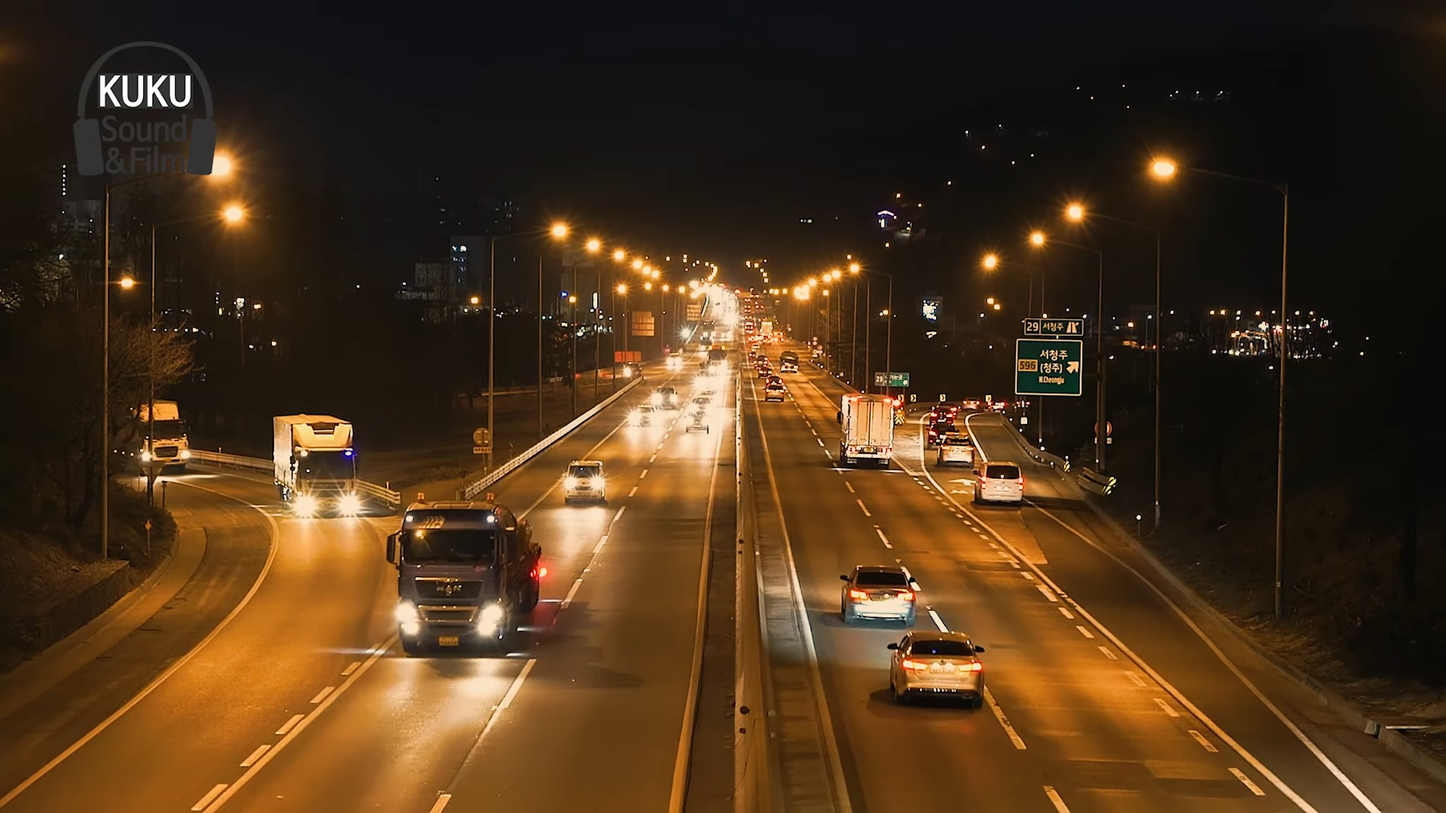car: (890, 625, 993, 706), (841, 561, 919, 624), (556, 456, 612, 502), (973, 457, 1025, 505)
truck: (387, 494, 534, 663), (833, 387, 901, 470)
